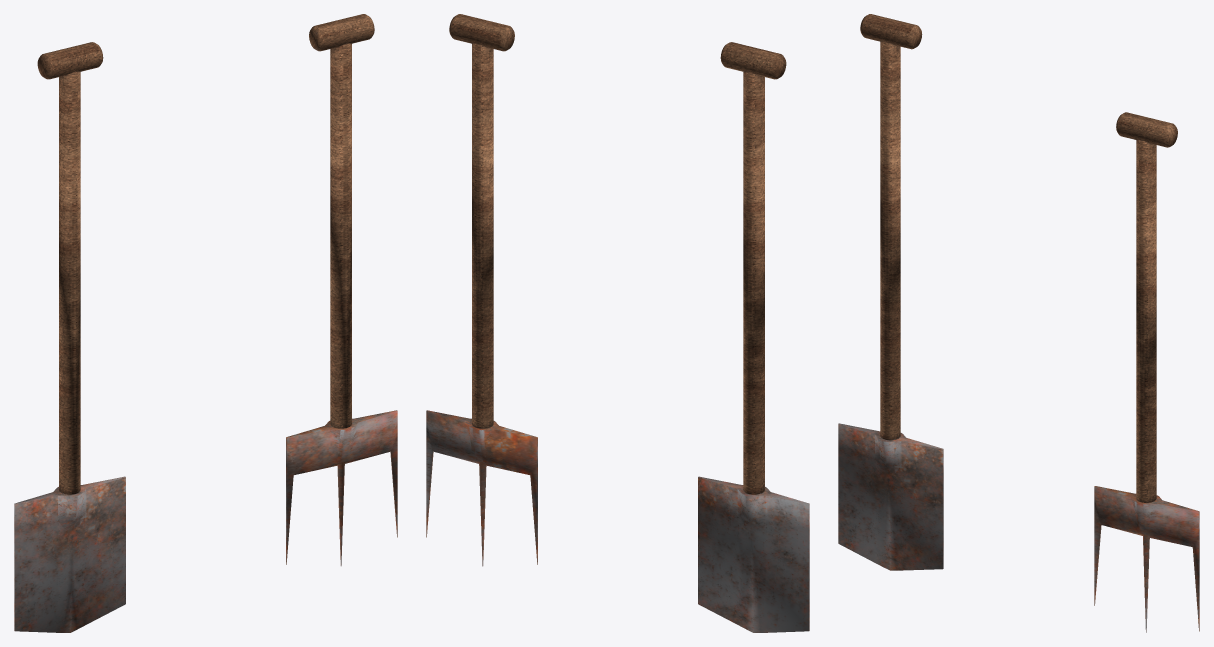
Rendered from Shovel_RakeTx.fbx.
The picture shows the model from 3 angles, left to right: view 1: azimuth 30°, elevation 25°; view 2: azimuth 150°, elevation 25°; view 3: azimuth 330°, elevation 25°; orthographic projection. The views are drawn at different scales.
Visible parts, largest first — view 1: shovel, Rake; view 2: shovel, Rake; view 3: shovel, Rake.
Part boxes in pixels (<box>): shovel: <box>14,42,125,632</box>; Rake: <box>286,14,397,566</box>; shovel: <box>698,42,809,632</box>; Rake: <box>426,14,537,566</box>; shovel: <box>838,14,943,570</box>; Rake: <box>1094,112,1199,632</box>.
Size of the model in its own units: 3103 by 4518 by 217.
Materials: 2 (2 with a texture image).
